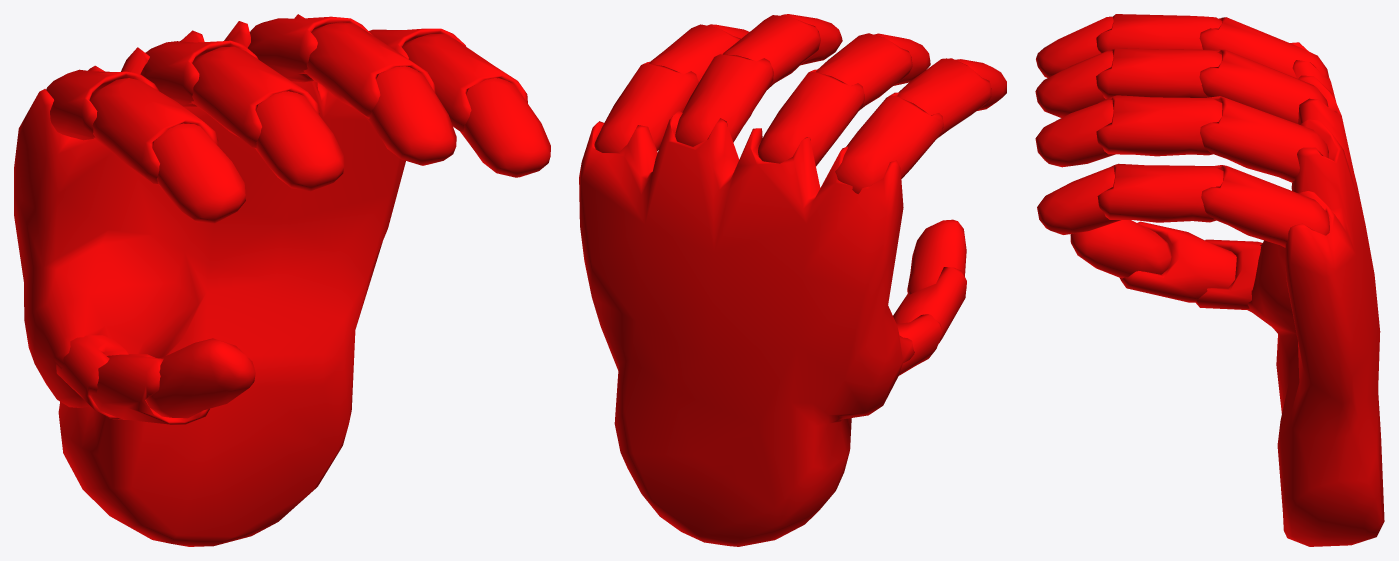
Rendered from ghost_hand_left.obj.
3 renders of one model, left to right at view 1: azimuth 30°, elevation 25°; view 2: azimuth 150°, elevation 25°; view 3: azimuth 270°, elevation 25°, orthographic. The views are drawn at different scales.
Size of the model in its own units: 94.62 by 128 by 87.63.
